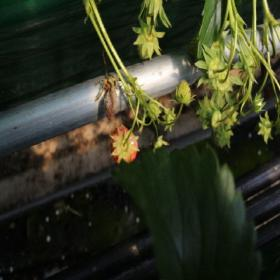Gray Mold: (100, 74, 122, 121)
